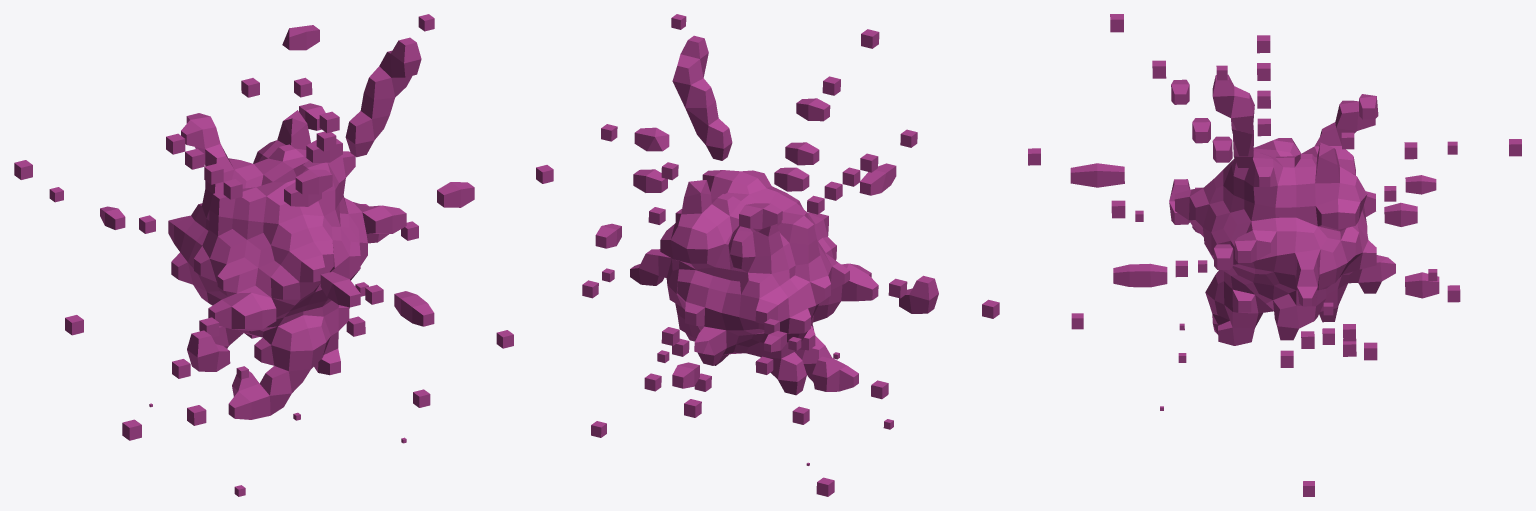
The model's file is tentaclesCracked3.fbx.
3 renders of one model, left to right at view 1: azimuth 30°, elevation 25°; view 2: azimuth 150°, elevation 25°; view 3: azimuth 270°, elevation 25°, orthographic. The views are drawn at different scales.
Parts seen in each view (by area): view 1: Volume_Mesher; view 2: Volume_Mesher; view 3: Volume_Mesher.
Boxes of the visible parts, x1,y1,x2,y2 form: Volume_Mesher: (14,14,553,496); Volume_Mesher: (582,14,999,496); Volume_Mesher: (1028,14,1521,496).
Bounding box in the file's own units: 24.72 × 25.82 × 28.34.
